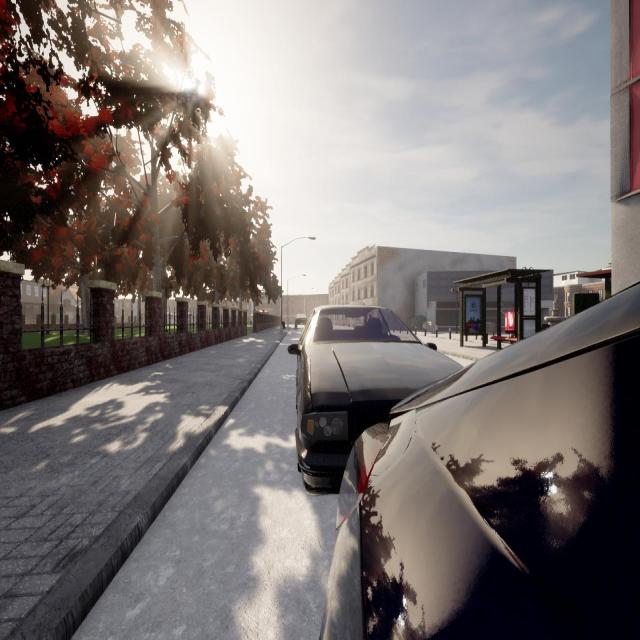Vehicle: (321, 286, 640, 640), (286, 304, 465, 494), (294, 314, 308, 329)
